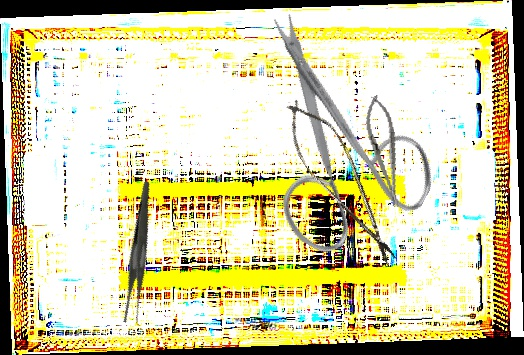Dressing Forceps: (87, 180, 194, 328)
Iris Scissors: (186, 7, 472, 284)
Micro Scissor: (270, 87, 414, 276)
Needle Holder: (360, 93, 409, 210)
